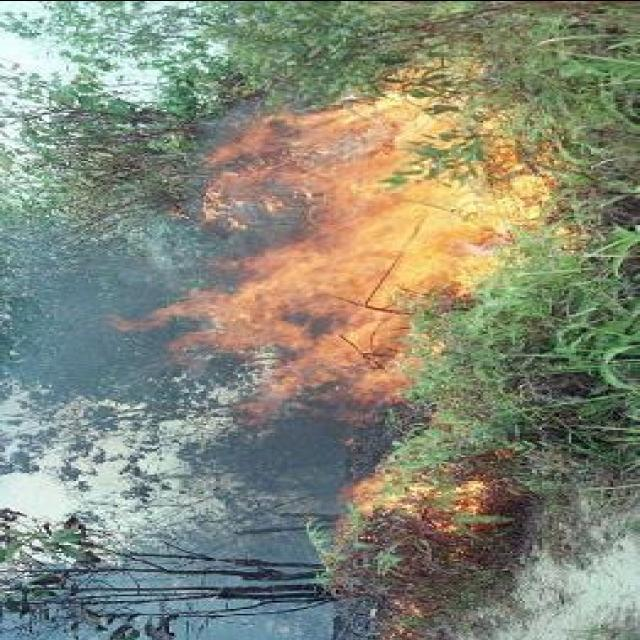Fire: (194, 86, 547, 380)
